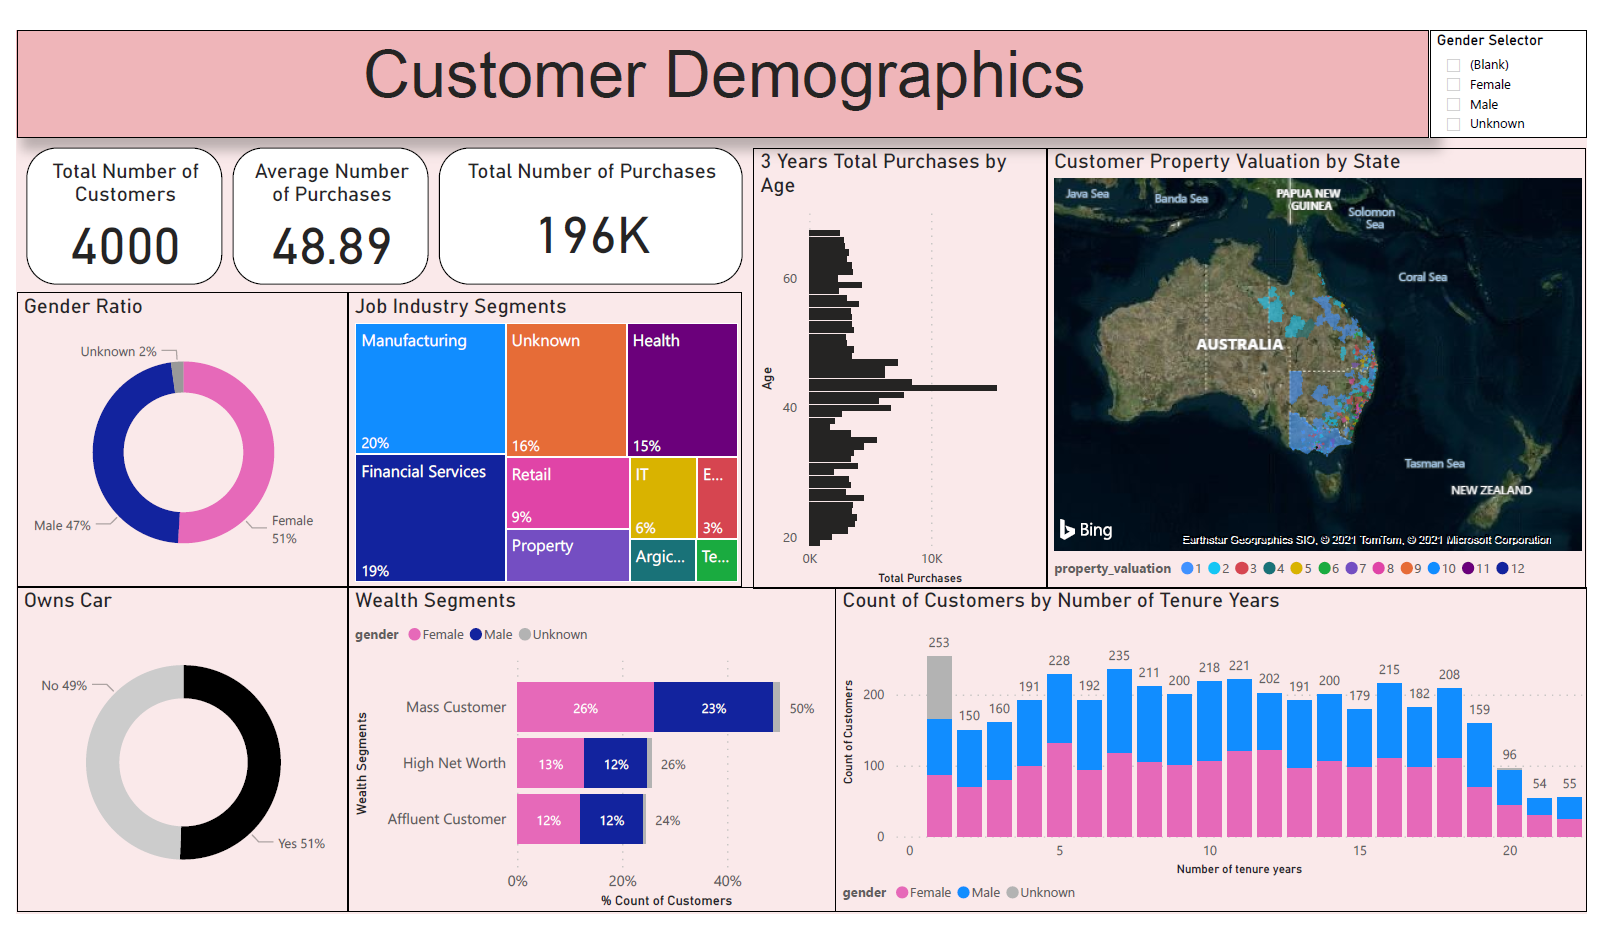

Layout of this report page (visuals, bound fields, positions):
{"tool":"powerbi","page":{"name":"Customer Demographics","canvas":[1280,720],"ordinal":0},"visuals":[{"type":"textbox","box":[0,0,1152,88],"z":0},{"type":"donutChart","title":"Gender Ratio","fields":{"Category":["CustomerDemographic.gender"],"Series":["CustomerDemographic.gender"],"Y":["CountNonNull(CustomerDemographic.customer_id)"]},"box":[0,214,269.9,239.7],"z":1000},{"type":"treemap","title":"Job Industry Segments","fields":{"Group":["CustomerDemographic.job_industry_category"],"Values":["Divide(CountNonNull(CustomerDemographic.job_industry_category), ScopedEval(CountNonNull(CustomerDemographic.job_industry"]},"box":[269.9,214,322.3,239.7],"z":2000},{"type":"barChart","title":"Wealth Segments","fields":{"Category":["CustomerDemographic.wealth_segment"],"Y":["CountNonNull(CustomerDemographic.customer_id)"],"Series":["CustomerDemographic.gender"]},"box":[269.9,453.7,397.7,266.3],"z":3000},{"type":"slicer","title":"Gender Selector","fields":{"Values":["CustomerDemographic.gender"]},"box":[1152,0,128,88],"z":4000},{"type":"donutChart","title":"Owns Car","fields":{"Y":["CountNonNull(CustomerDemographic.customer_id)"],"Category":["CustomerDemographic.owns_car"],"Series":["CustomerDemographic.owns_car"]},"box":[0,453.7,269.9,266.3],"z":5000},{"type":"card","title":"Total Number of Customers","fields":{"Values":["CountNonNull(CustomerDemographic.customer_id)"]},"box":[8,96,160,112],"z":6000},{"type":"card","title":"Average Number of Purchases","fields":{"Values":["Avg(CustomerDemographic.past_3_years_bike_related_purchases)"]},"box":[176,96,160,112],"z":7000},{"type":"clusteredBarChart","title":"3 Years Total Purchases by Age","fields":{"Category":["CustomerDemographic.Age"],"Y":["Sum(CustomerDemographic.past_3_years_bike_related_purchases)"]},"box":[600,96,240,360],"z":8000},{"type":"card","title":"Total Number of Purchases","fields":{"Values":["Sum(CustomerDemographic.past_3_years_bike_related_purchases)"]},"box":[344,96,248,112],"z":9000},{"type":"columnChart","title":"Count of Customers by Number of Tenure Years","fields":{"Category":["CustomerDemographic.tenure"],"Y":["CountNonNull(CustomerDemographic.customer_id)"],"Series":["CustomerDemographic.gender"]},"box":[667.6,453.7,612.6,266.3],"z":10000},{"type":"filledMap","title":"Customer Property Valuation by State","fields":{"Category":["CustomerAddress.Location"],"Series":["CustomerAddress.property_valuation"]},"box":[840,96,440,360],"z":11000}]}

Visuals, with their boxes in screenshot pixels (x1, y1, x2, y2):
textbox: select_region(8, 21, 1429, 129)
"Gender Ratio" donutChart: select_region(8, 285, 341, 580)
"Job Industry Segments" treemap: select_region(341, 285, 739, 580)
"Wealth Segments" barChart: select_region(341, 580, 832, 909)
"Gender Selector" slicer: select_region(1429, 21, 1587, 129)
"Owns Car" donutChart: select_region(8, 580, 341, 909)
"Total Number of Customers" card: select_region(18, 139, 216, 277)
"Average Number of Purchases" card: select_region(225, 139, 423, 277)
"3 Years Total Purchases by Age" clusteredBarChart: select_region(748, 139, 1044, 583)
"Total Number of Purchases" card: select_region(433, 139, 739, 277)
"Count of Customers by Number of Tenure Years" columnChart: select_region(832, 580, 1587, 909)
"Customer Property Valuation by State" filledMap: select_region(1044, 139, 1587, 583)
